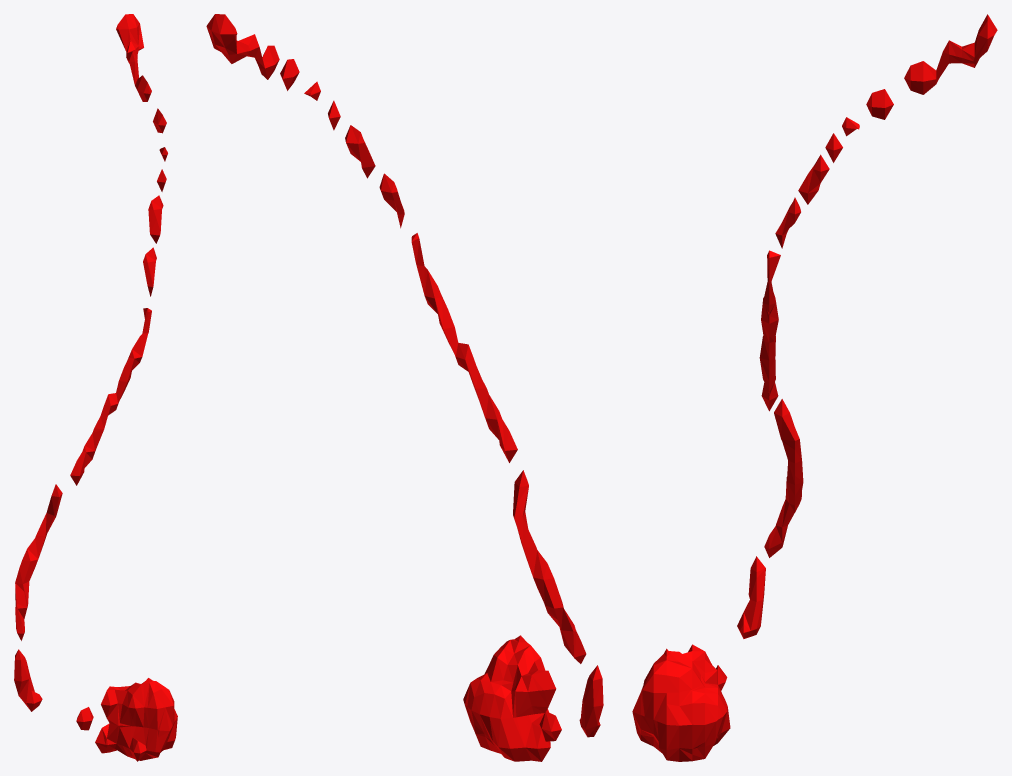
Rendered from eptC_coarse.dae.
The picture shows the model from 3 angles, left to right: view 1: azimuth 30°, elevation 25°; view 2: azimuth 150°, elevation 25°; view 3: azimuth 270°, elevation 25°; orthographic projection. The views are drawn at different scales.
Parts seen in each view (by area): view 1: eptC; view 2: eptC; view 3: eptC.
Boxes of the visible parts, x1=… form: eptC: x1=14, y1=14, x2=177, y2=761; eptC: x1=206, y1=14, x2=603, y2=761; eptC: x1=632, y1=14, x2=997, y2=761.
Bounding box in the file's own units: 183 × 508 × 209.
